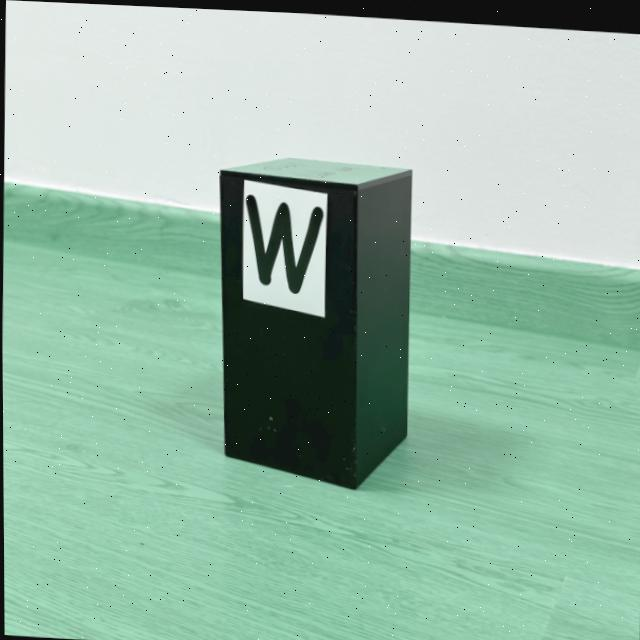W: (245, 192, 322, 290)
